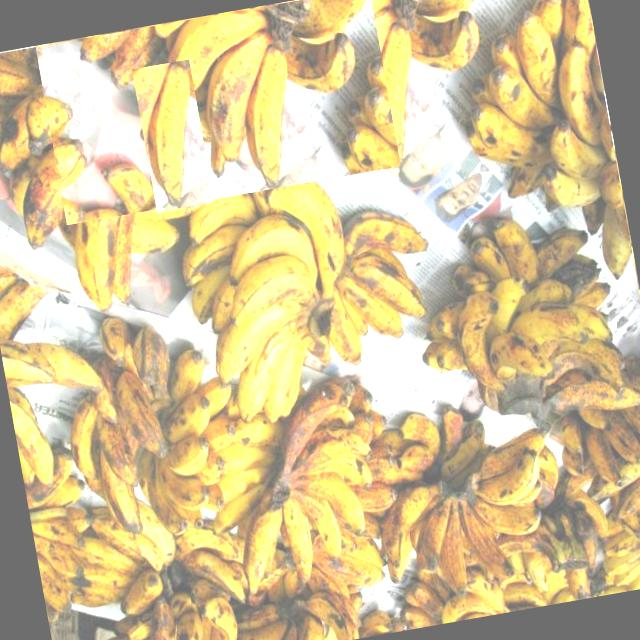Banana: (171, 157, 455, 434), (440, 0, 637, 302), (402, 206, 628, 440), (342, 386, 574, 613), (185, 376, 410, 604), (160, 0, 320, 202)
